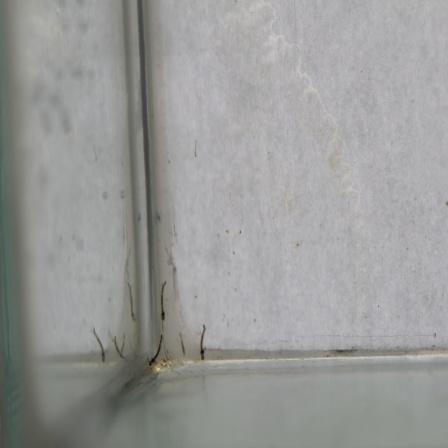Jentik-Nyamuk: (146, 330, 167, 372), (155, 278, 169, 326), (195, 323, 209, 363)
